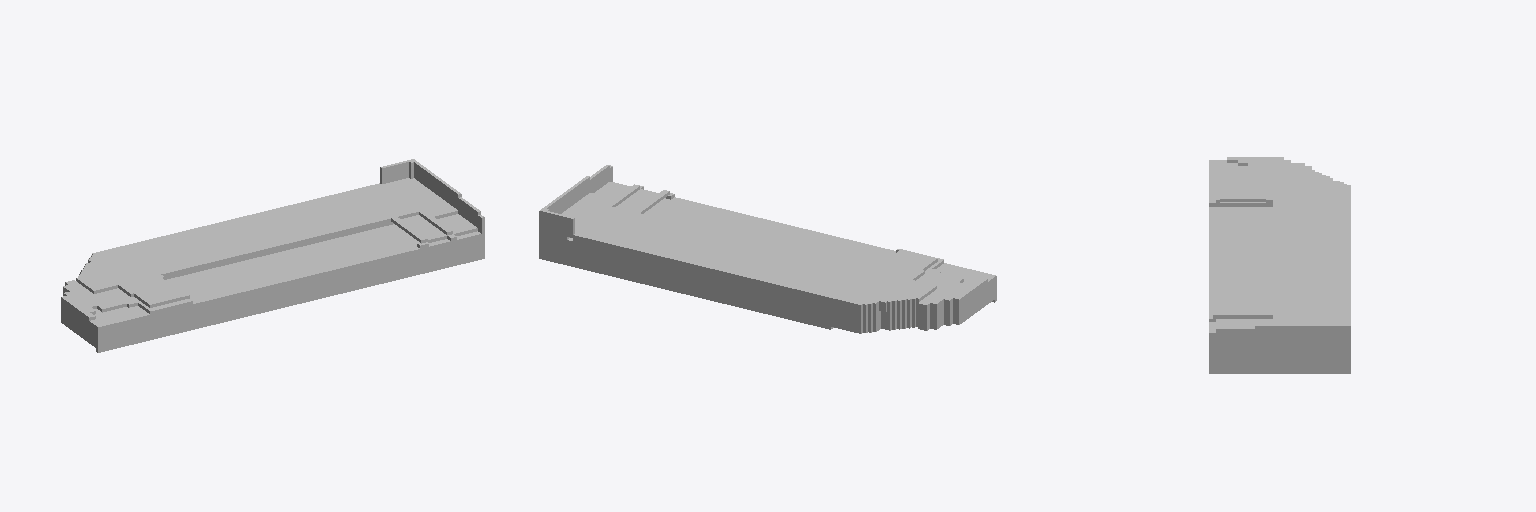
Rendered from faccat terreno parte de cima.obj.
The picture shows the model from 3 angles: view 1: azimuth 30°, elevation 25°; view 2: azimuth 150°, elevation 25°; view 3: azimuth 270°, elevation 25°; orthographic projection.
Parts seen in each view (by area): view 1: object 1; view 2: object 1; view 3: object 1.
Boxes of the visible parts, x1=… form: object 1: x1=61, y1=159, x2=484, y2=352; object 1: x1=539, y1=165, x2=996, y2=333; object 1: x1=1209, y1=157, x2=1350, y2=373.
Size of the model in its own units: 12.6 by 1.5 by 4.